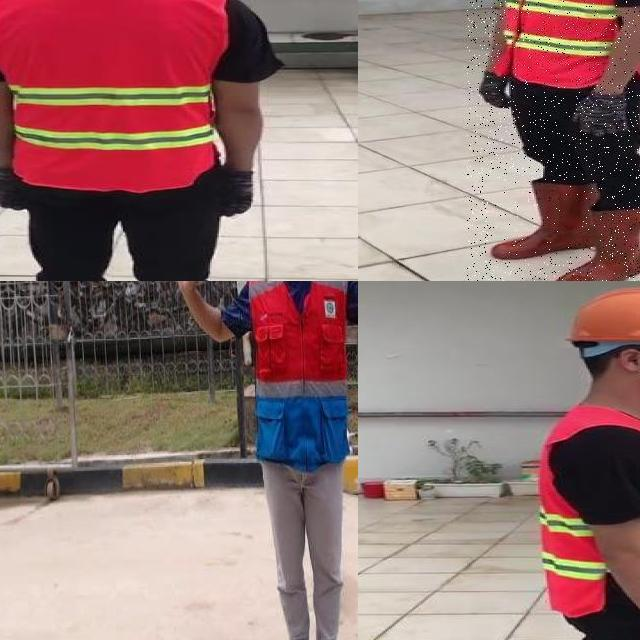boots: (488, 182, 600, 261), (553, 204, 640, 281)
hand_glove: (216, 168, 254, 216), (0, 168, 25, 210)
head_helmet: (566, 287, 640, 350)
person: (0, 0, 293, 281), (148, 281, 358, 640), (467, 0, 640, 281), (526, 281, 640, 640)
vest: (0, 0, 219, 191), (539, 410, 640, 616), (248, 281, 351, 468), (498, 0, 640, 86)
